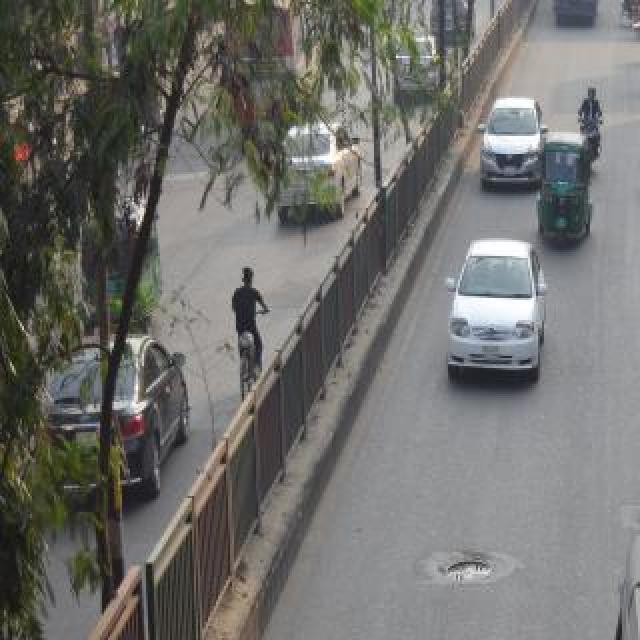car: (29, 316, 191, 508), (432, 235, 558, 393), (470, 81, 544, 201), (270, 124, 348, 214)
motorbike: (574, 64, 618, 196)
